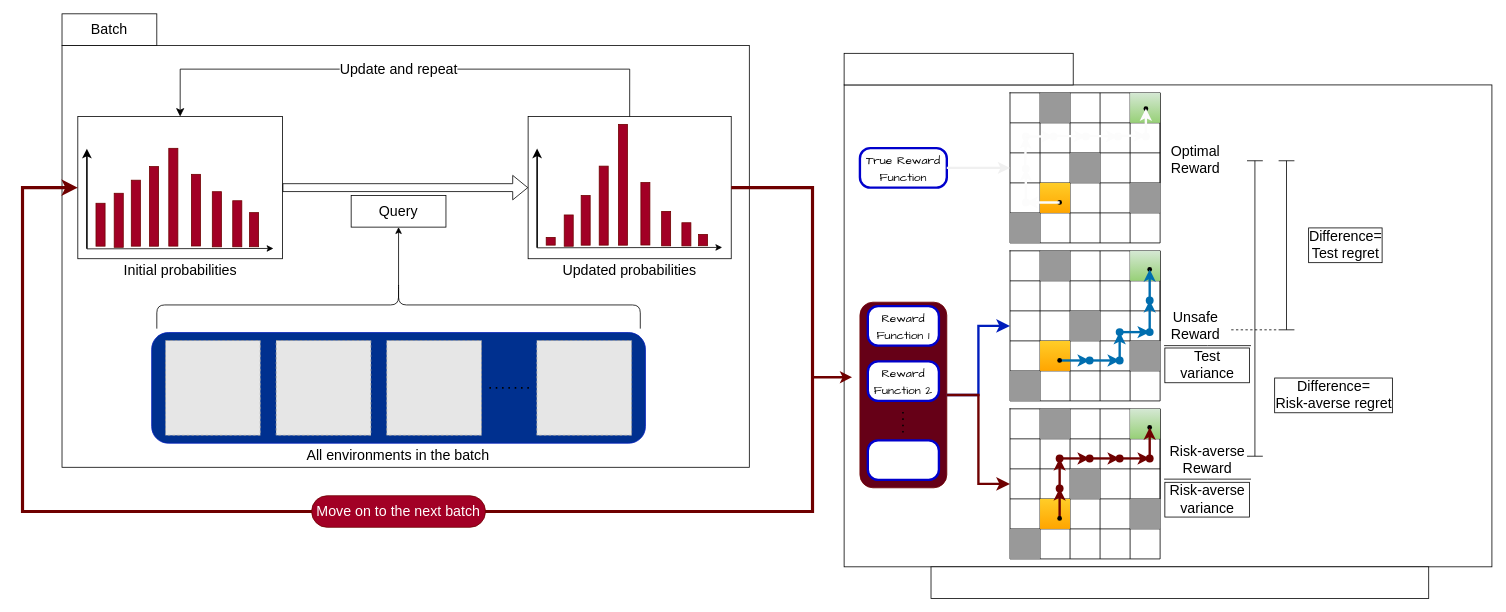
This 1506x612 diagram has some shape labels left out. Grey dashed boxes stand in for pictures. Here are the shapes that lost their labels. From the top down, the centre of each, then its label:
At [958,69]: "For each environment in the batch".
At [903,460]: "Reward Function N".
At [1179,582]: "Variance = Uncertainty of the reward in that trajectory".
